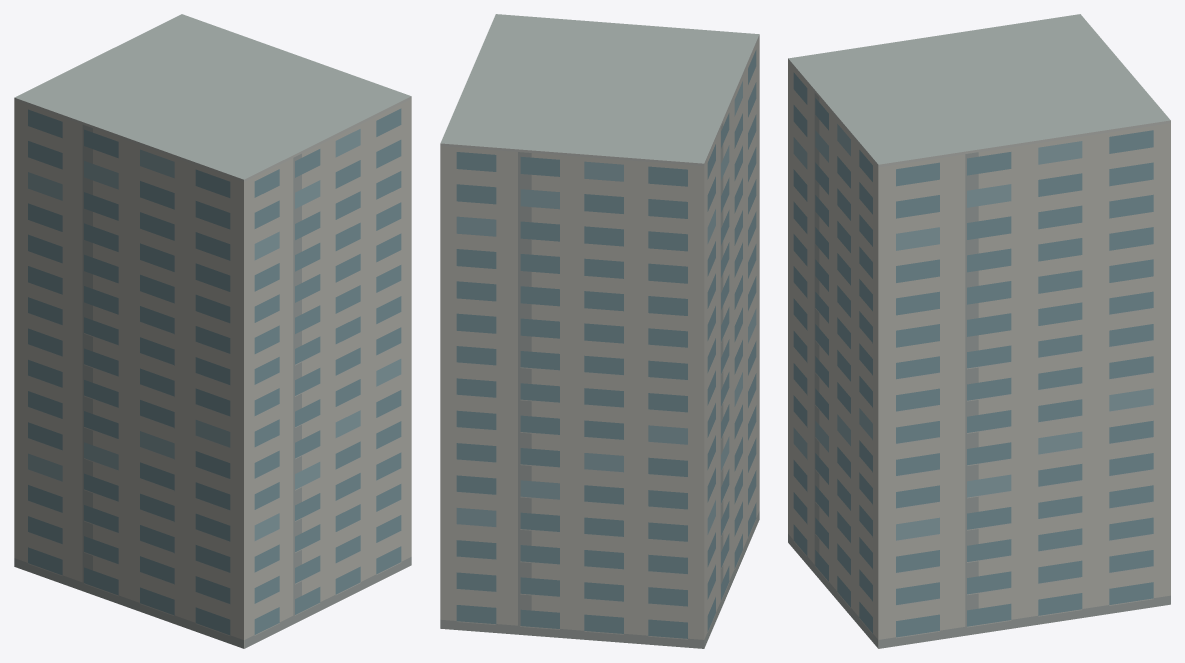
Rendered from residential-468ab501-0dc3-419b-b961-04a0af5632c2.glb.
3 renders of one model, left to right at view 1: azimuth 30°, elevation 25°; view 2: azimuth 150°, elevation 25°; view 3: azimuth 270°, elevation 25°, orthographic. The views are drawn at different scales.
Parts seen in each view (by area): view 1: residential-468ab501-0dc3-419b-b961-04a0af5632c2.tmp; view 2: residential-468ab501-0dc3-419b-b961-04a0af5632c2.tmp; view 3: residential-468ab501-0dc3-419b-b961-04a0af5632c2.tmp.
Part boxes in pixels (<box>): residential-468ab501-0dc3-419b-b961-04a0af5632c2.tmp: <box>14,14,411,648</box>; residential-468ab501-0dc3-419b-b961-04a0af5632c2.tmp: <box>440,14,759,648</box>; residential-468ab501-0dc3-419b-b961-04a0af5632c2.tmp: <box>788,14,1170,648</box>.
Size of the model in its own units: 30.56 by 45.75 by 32.78.
